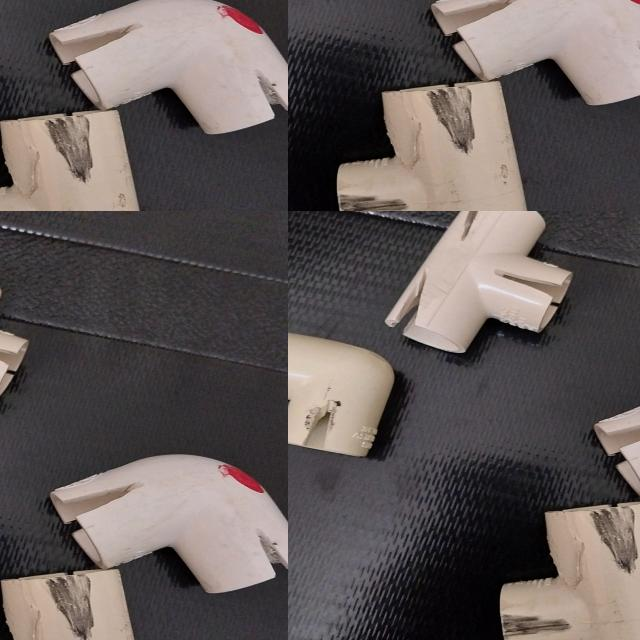Defective: (559, 416, 640, 457), (593, 507, 640, 574), (397, 280, 442, 338), (491, 270, 564, 304), (305, 393, 340, 453), (499, 619, 574, 640), (463, 211, 495, 239)
L Joint: (288, 344, 408, 455)
T Joint: (387, 211, 576, 355), (493, 500, 640, 640)
